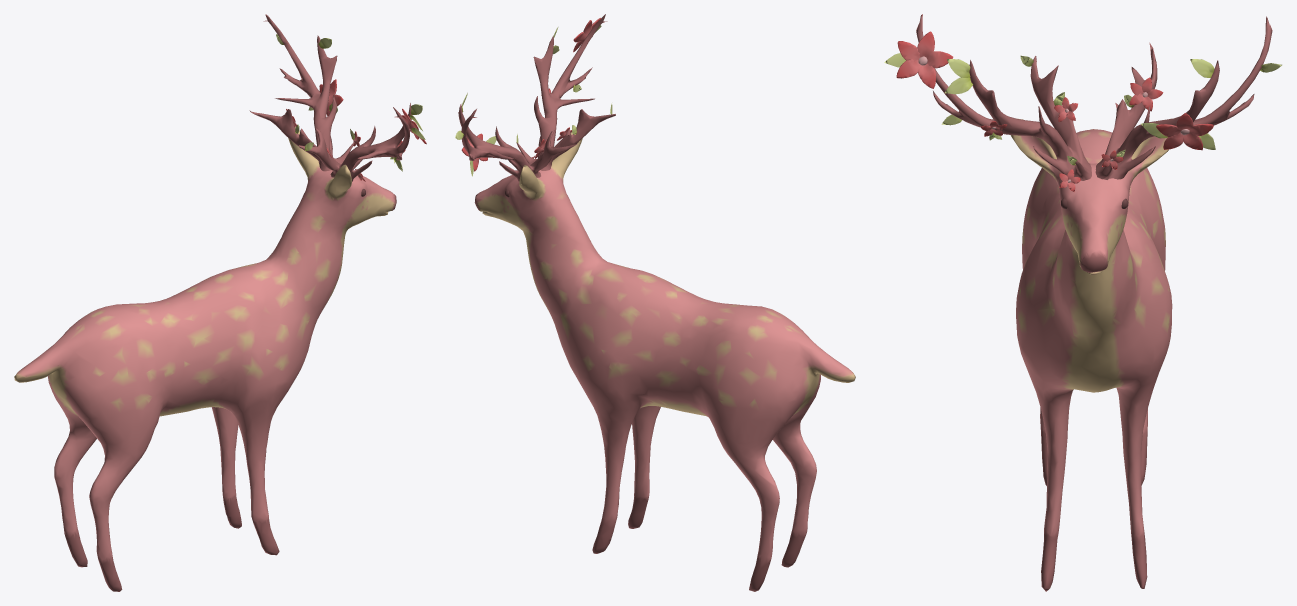
3 views of the same model, side by side, from view 1: azimuth 30°, elevation 25°; view 2: azimuth 150°, elevation 25°; view 3: azimuth 270°, elevation 25° (orthographic). The views are drawn at different scales.
Parts seen in each view (by area): view 1: Object_4; view 2: Object_4; view 3: Object_4.
Part boxes in pixels (<box>): Object_4: <box>14,14,426,591</box>; Object_4: <box>455,14,855,591</box>; Object_4: <box>884,14,1281,591</box>.
Bounding box in the file's own units: 255 × 299 × 173.
